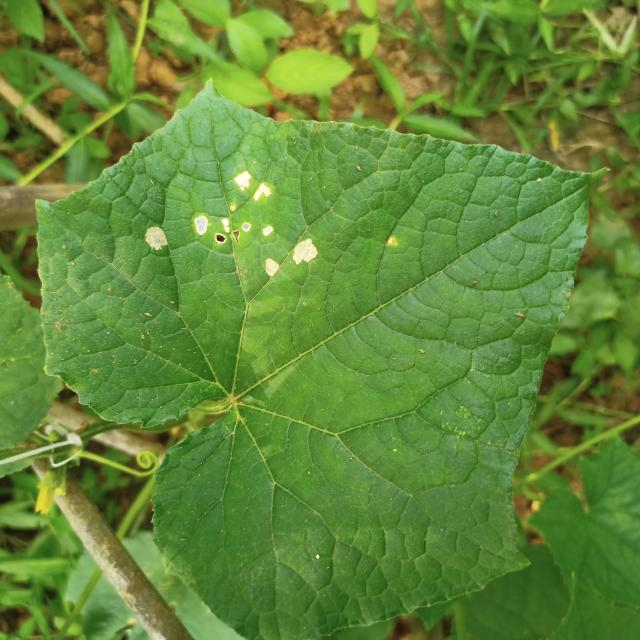disease_cucumber: (146, 171, 318, 277)
